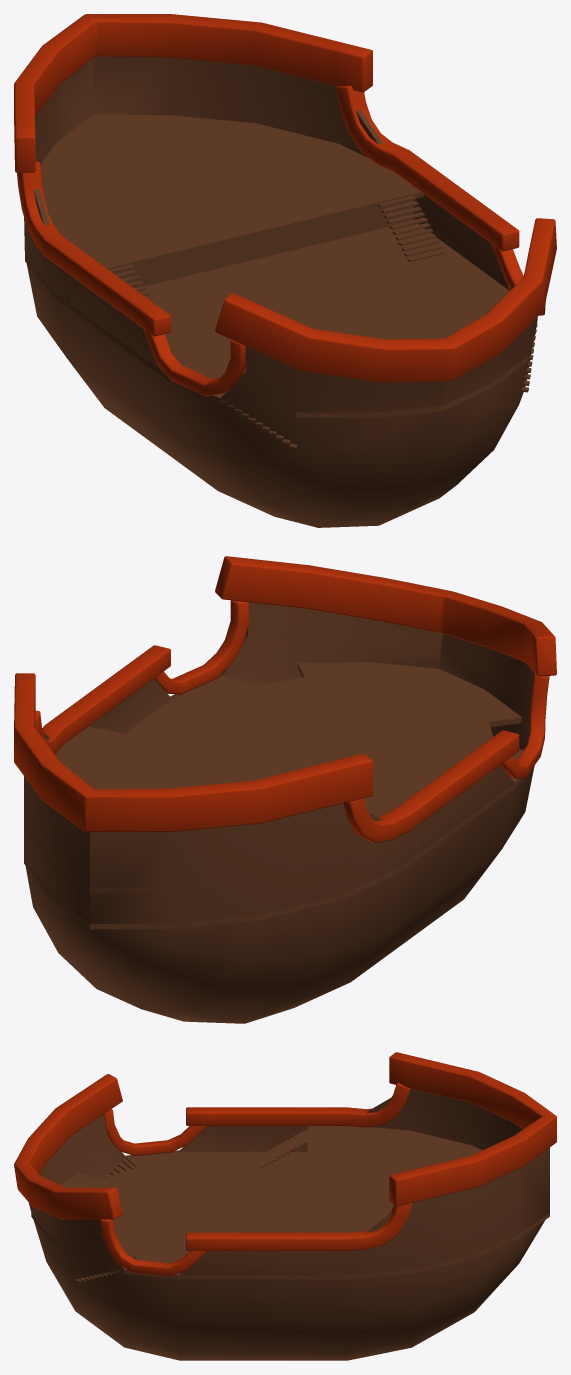
File: SM_Ship.fbx
3 renders of one model, top to bottom at view 1: azimuth 30°, elevation 25°; view 2: azimuth 150°, elevation 25°; view 3: azimuth 270°, elevation 25°, orthographic. The views are drawn at different scales.
Visible parts, largest first — view 1: Plane.001, Plane.006, Plane.002, Plane.004, Plane.015; view 2: Plane.001, Plane.002, Plane.006; view 3: Plane.001, Plane.006, Plane.002, Plane.004.
Part boxes in pixels (bbox=[...]): Plane.001: bbox=[24, 56, 537, 527]; Plane.006: bbox=[24, 114, 537, 417]; Plane.002: bbox=[14, 14, 556, 396]; Plane.004: bbox=[109, 195, 444, 300]; Plane.015: bbox=[155, 202, 332, 282]; Plane.001: bbox=[24, 602, 534, 1023]; Plane.002: bbox=[14, 556, 556, 842]; Plane.006: bbox=[24, 662, 522, 929]; Plane.001: bbox=[28, 1088, 549, 1360]; Plane.006: bbox=[31, 1126, 549, 1279]; Plane.002: bbox=[14, 1052, 556, 1276]; Plane.004: bbox=[260, 1130, 307, 1232].
Size of the model in its own units: 2103 by 1721 by 3665.
